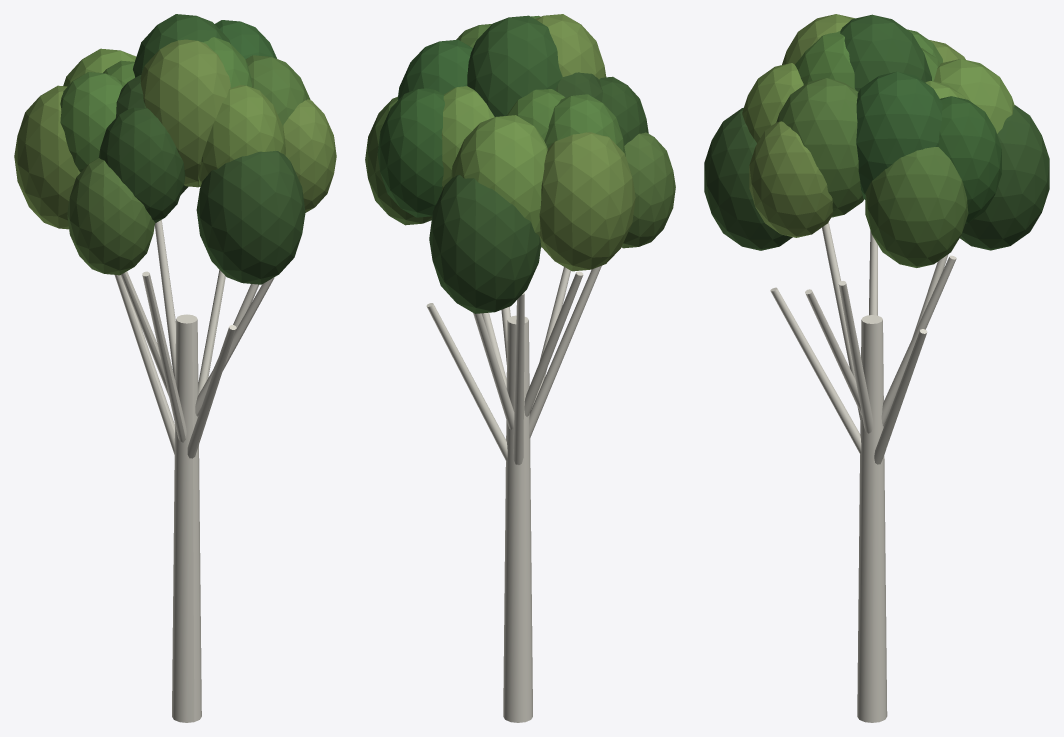
File: broadleaf-columnar.near.glb
3 views of the same model, side by side, from view 1: azimuth 30°, elevation 25°; view 2: azimuth 150°, elevation 25°; view 3: azimuth 270°, elevation 25° (orthographic).
Visible parts, largest first — view 1: foliage, wood; view 2: foliage, wood; view 3: foliage, wood.
Boxes of the visible parts, left/top/right/bottom form: foliage: left=14, top=14, right=336, bottom=284; wood: left=114, top=220, right=274, bottom=722; foliage: left=365, top=14, right=675, bottom=313; wood: left=426, top=265, right=601, bottom=722; foliage: left=704, top=14, right=1049, bottom=267; wood: left=770, top=222, right=956, bottom=722.
Size of the model in its own units: 5.04 by 13 by 5.84.
